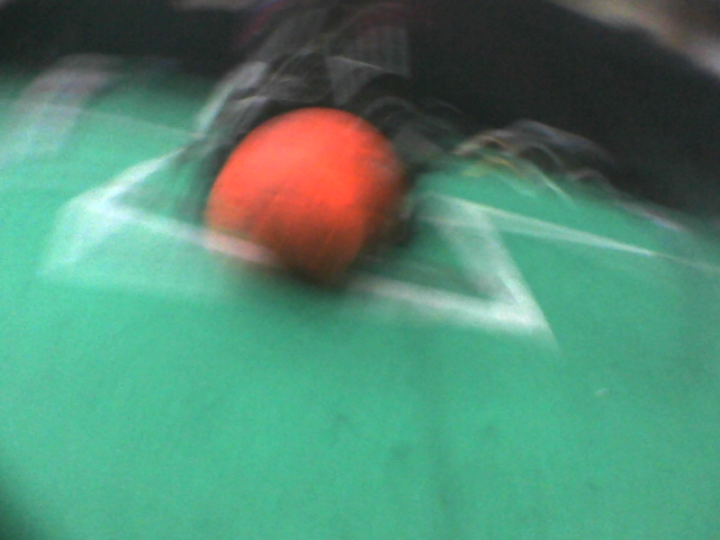bola: (214, 106, 425, 302)
